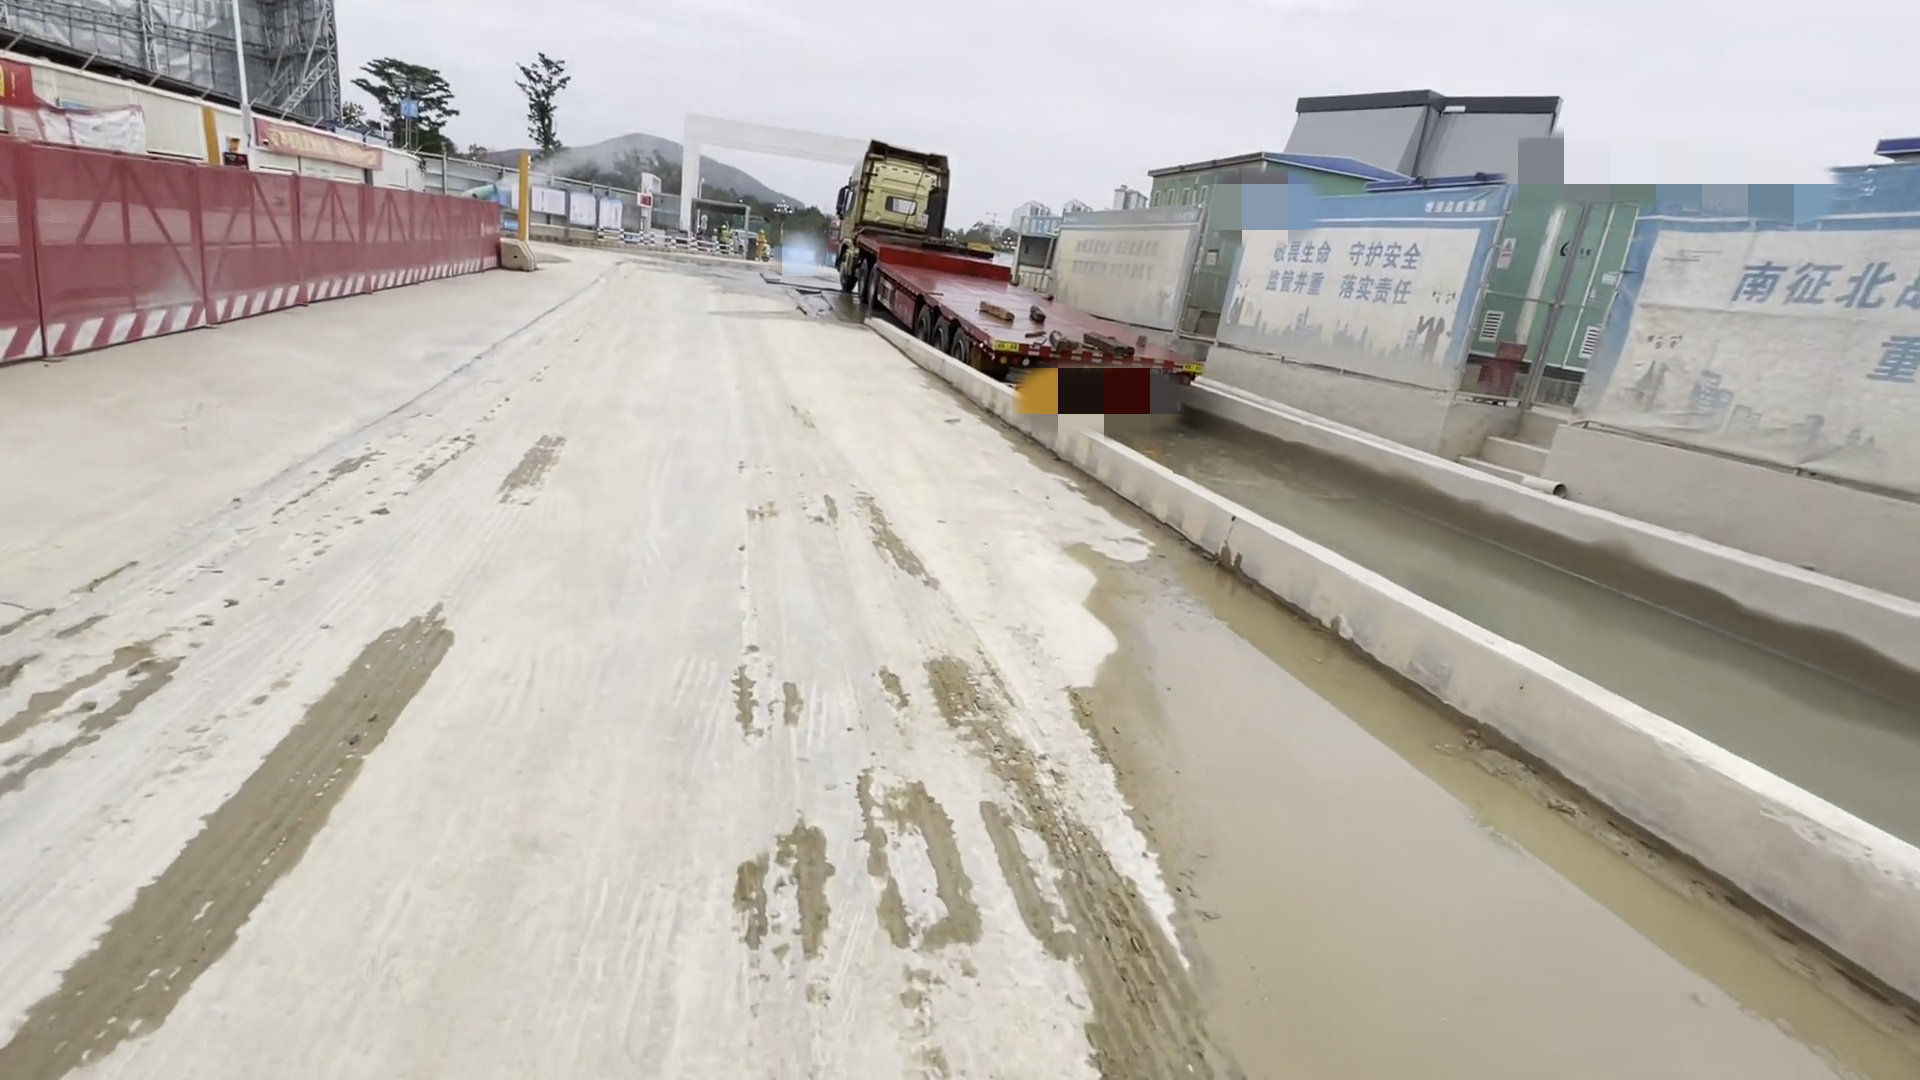slogan: (1254, 199, 1498, 376), (1695, 251, 1920, 436), (251, 113, 397, 173), (1063, 224, 1170, 293)
